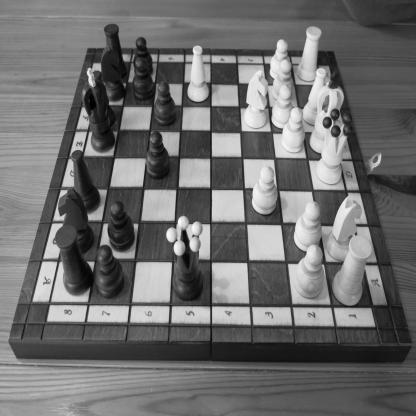black-bishop: (71, 149, 101, 214), (92, 70, 116, 127)
black-king: (80, 67, 116, 154)
black-knight: (58, 188, 93, 254), (100, 44, 126, 102)
black-pawn: (94, 244, 125, 299), (107, 200, 135, 253), (146, 130, 170, 180), (154, 80, 176, 127), (132, 57, 154, 101), (132, 36, 154, 77)
black-queen: (166, 215, 203, 301)
black-rook: (54, 224, 94, 296), (103, 23, 128, 79)
white-bishop: (302, 68, 327, 126), (186, 45, 210, 103)
white-king: (309, 70, 345, 155)
white-knight: (325, 195, 362, 262), (244, 70, 269, 129)
white-pawn: (294, 244, 324, 299), (293, 201, 323, 252), (252, 165, 278, 216), (281, 107, 306, 152), (271, 84, 293, 130), (272, 59, 294, 101), (269, 38, 289, 80)
white-queen: (316, 108, 353, 185)
white-rook: (331, 235, 372, 307), (296, 26, 322, 82)
